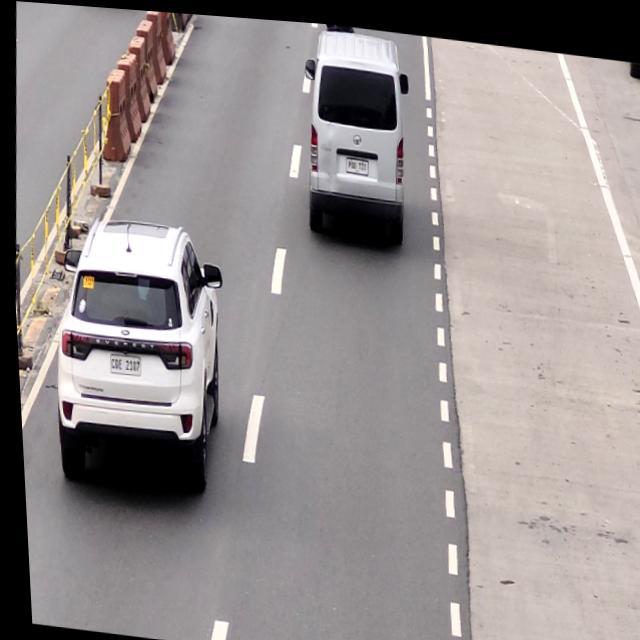Car: (43, 214, 226, 493), (299, 26, 412, 236)
License-Plate: (103, 351, 140, 376), (343, 149, 369, 172)
